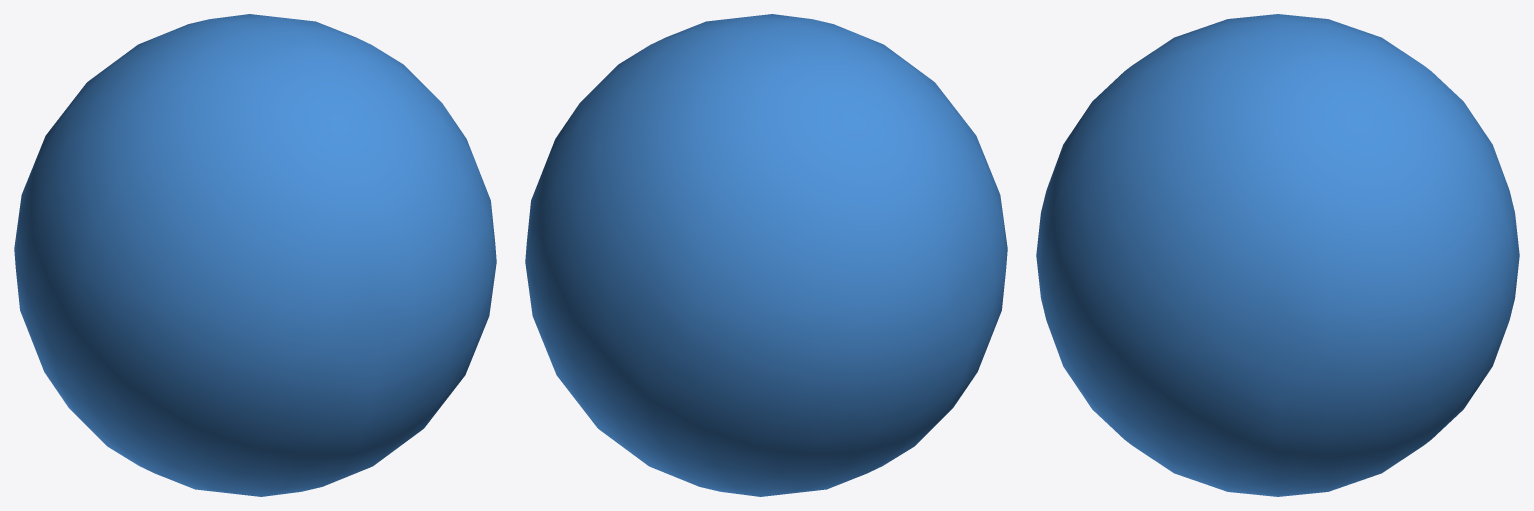
The model's file is expected.gltf.
3 views of the same model, side by side, from view 1: azimuth 30°, elevation 25°; view 2: azimuth 150°, elevation 25°; view 3: azimuth 270°, elevation 25° (orthographic).
Bounding box in the file's own units: 20 × 20 × 20.
